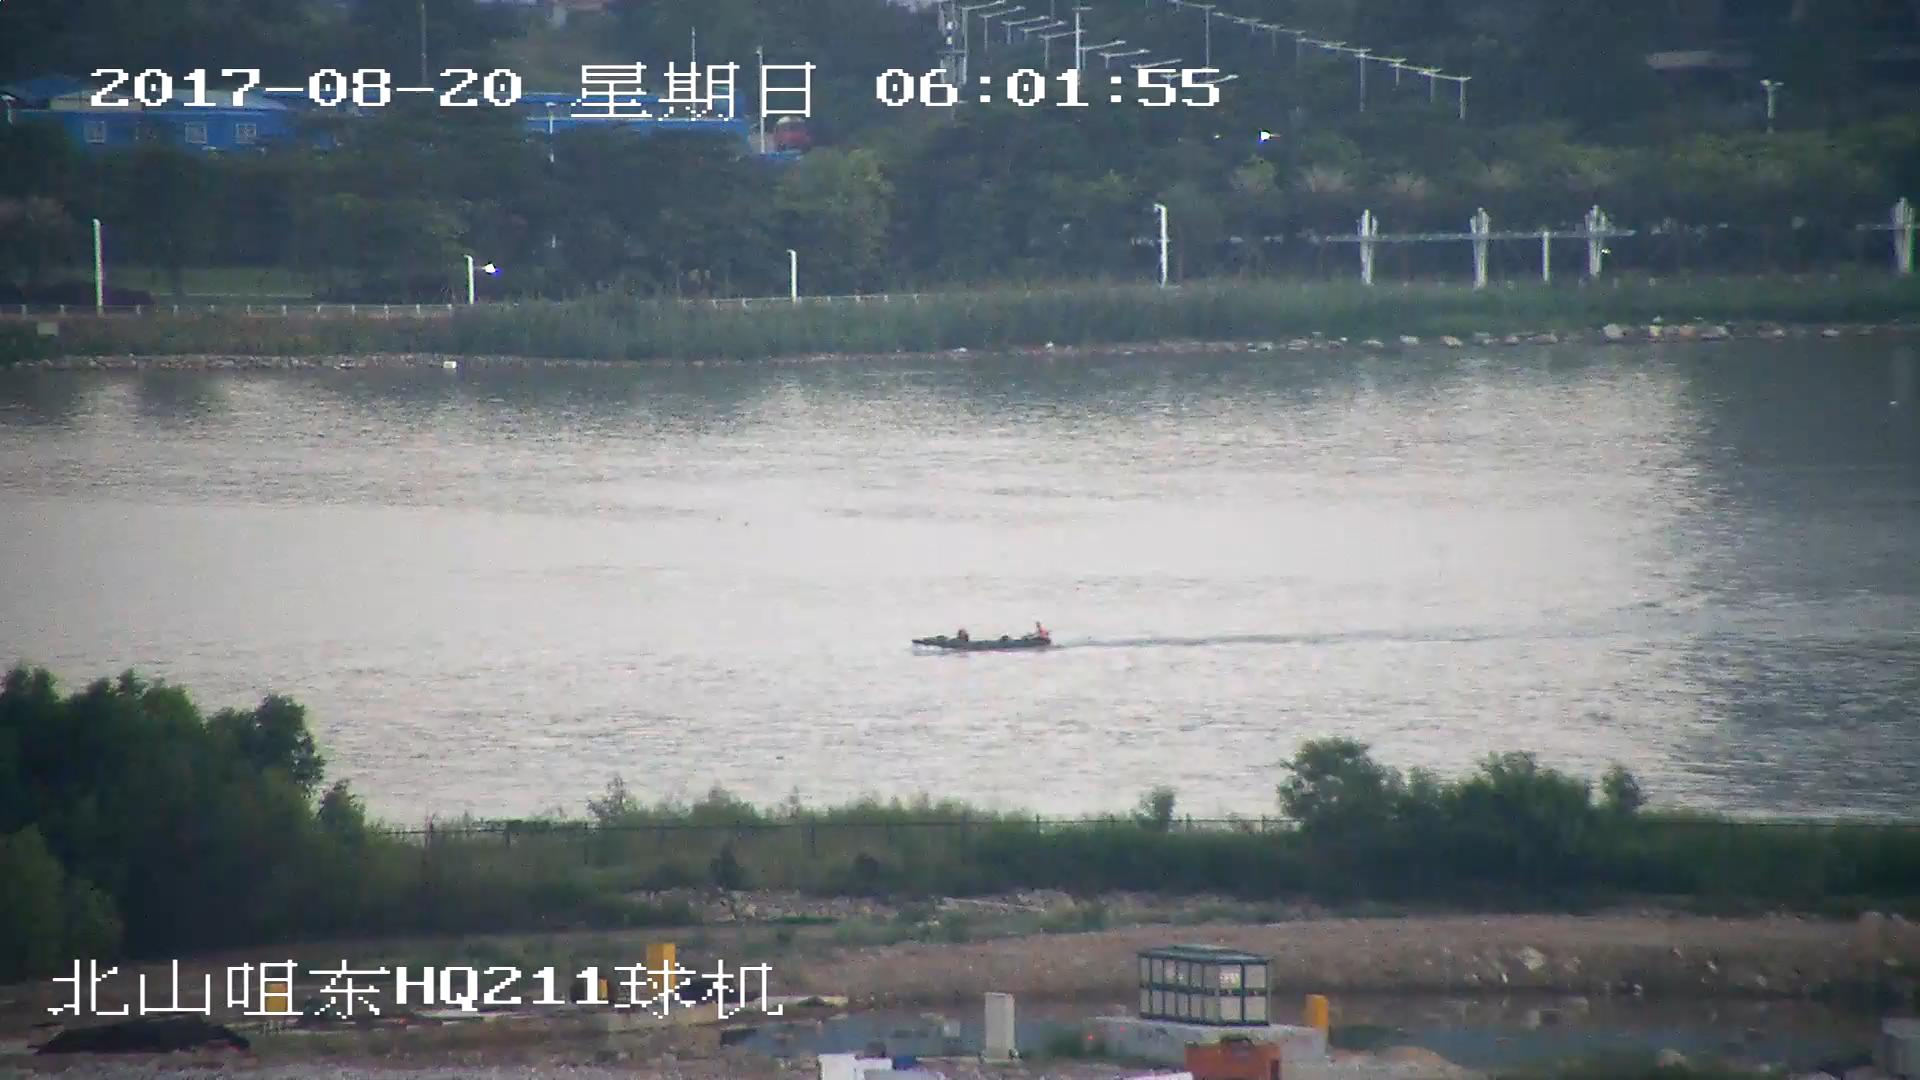fishing boat: (914, 626, 1055, 650)
